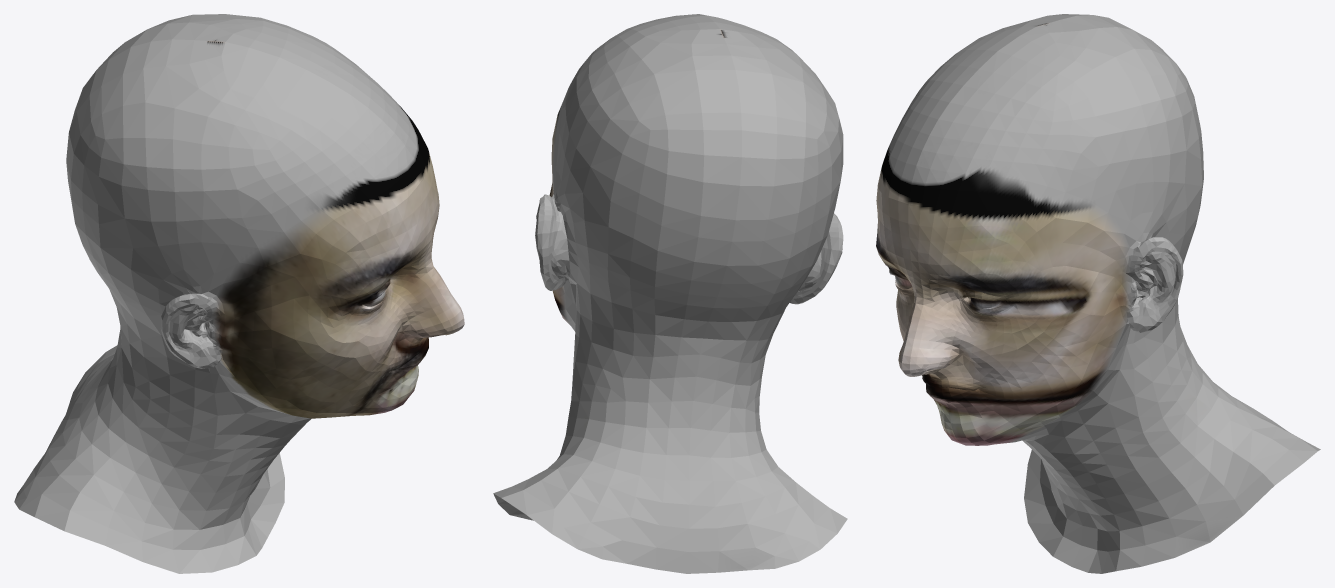
The model's file is ezgif-frame-048.obj.
3 renders of one model, left to right at view 1: azimuth 30°, elevation 25°; view 2: azimuth 150°, elevation 25°; view 3: azimuth 270°, elevation 25°, orthographic. The views are drawn at different scales.
Size of the model in its own units: 0.2113 by 0.32 by 0.2506.
Materials: 1 (1 with a texture image).
